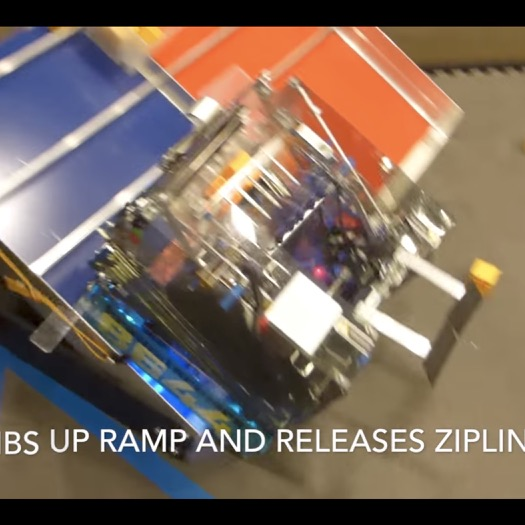robot: (86, 62, 504, 432)
